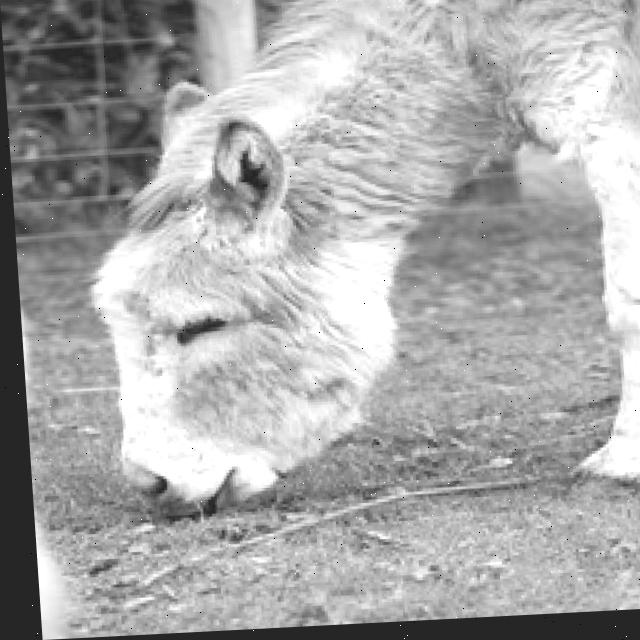Donkey: (68, 0, 640, 527)
